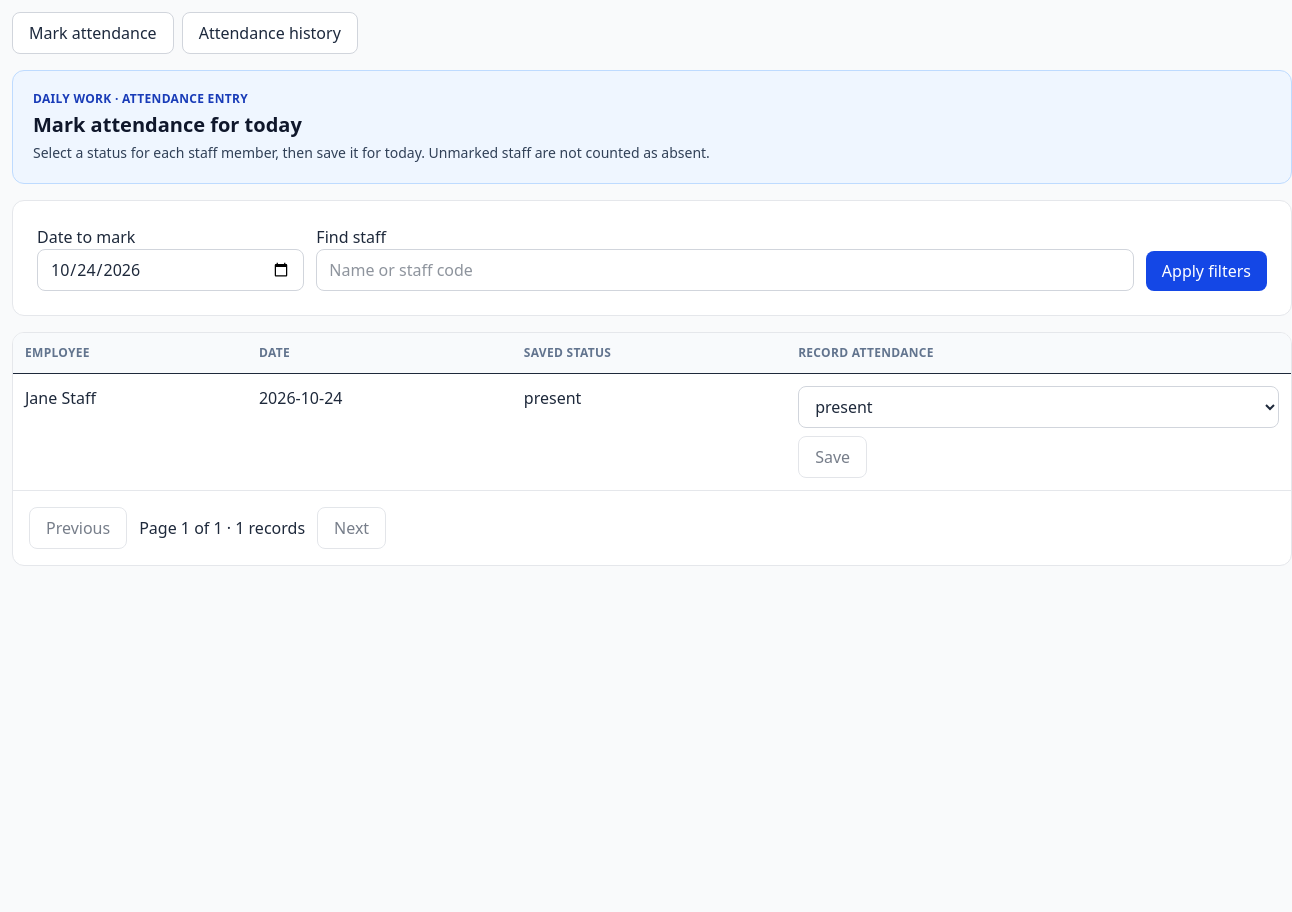
Test case: loads and corrects attendance for the chosen date
Type "2026-09-20" into the date field named "Attendance date".
click(171, 270); type("2026-09-20")  # box [37, 249, 304, 291]
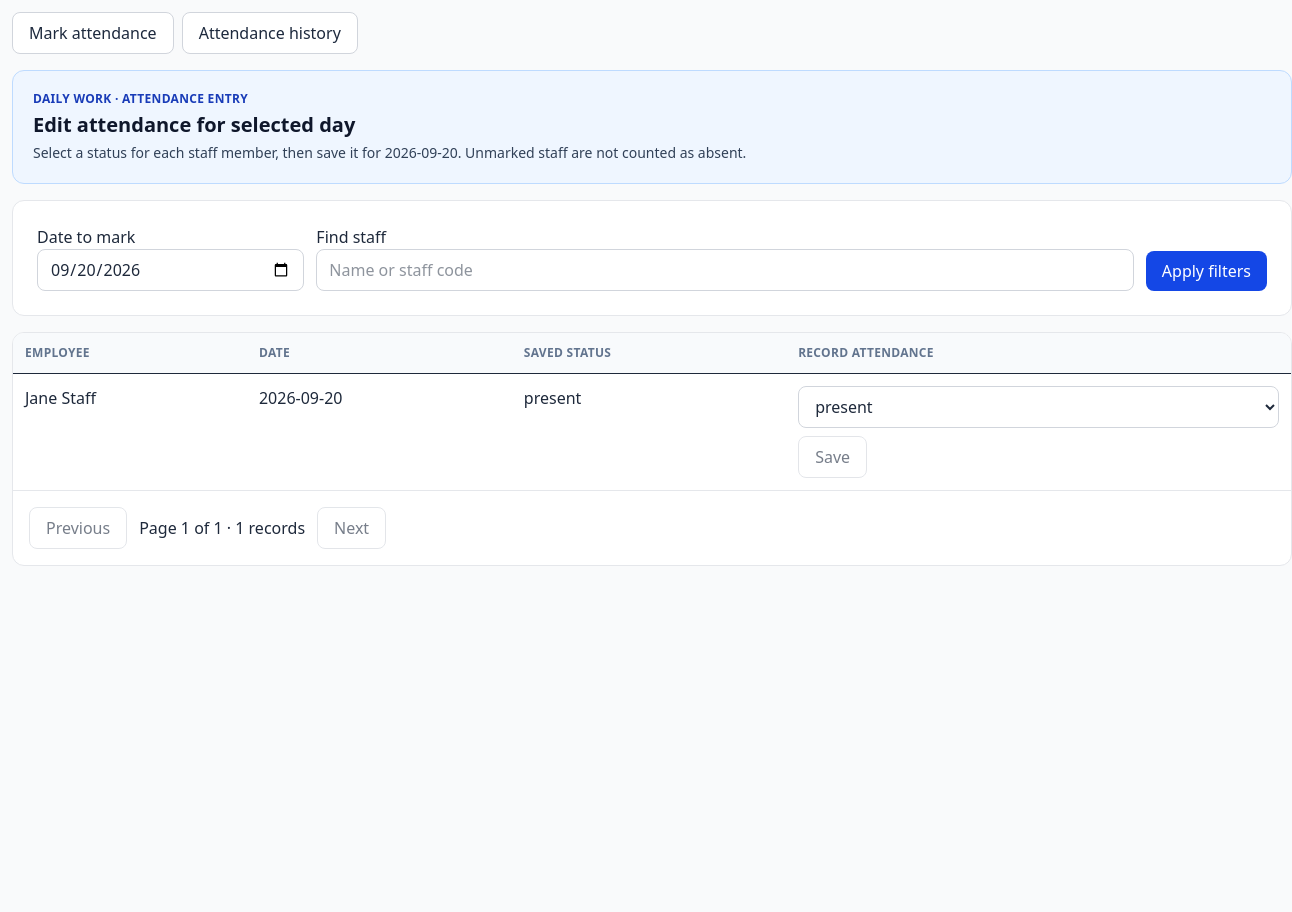
Select "late" in the dropdown named "Status for Jane Staff" at coordinates (1039, 407), box [798, 386, 1279, 428]
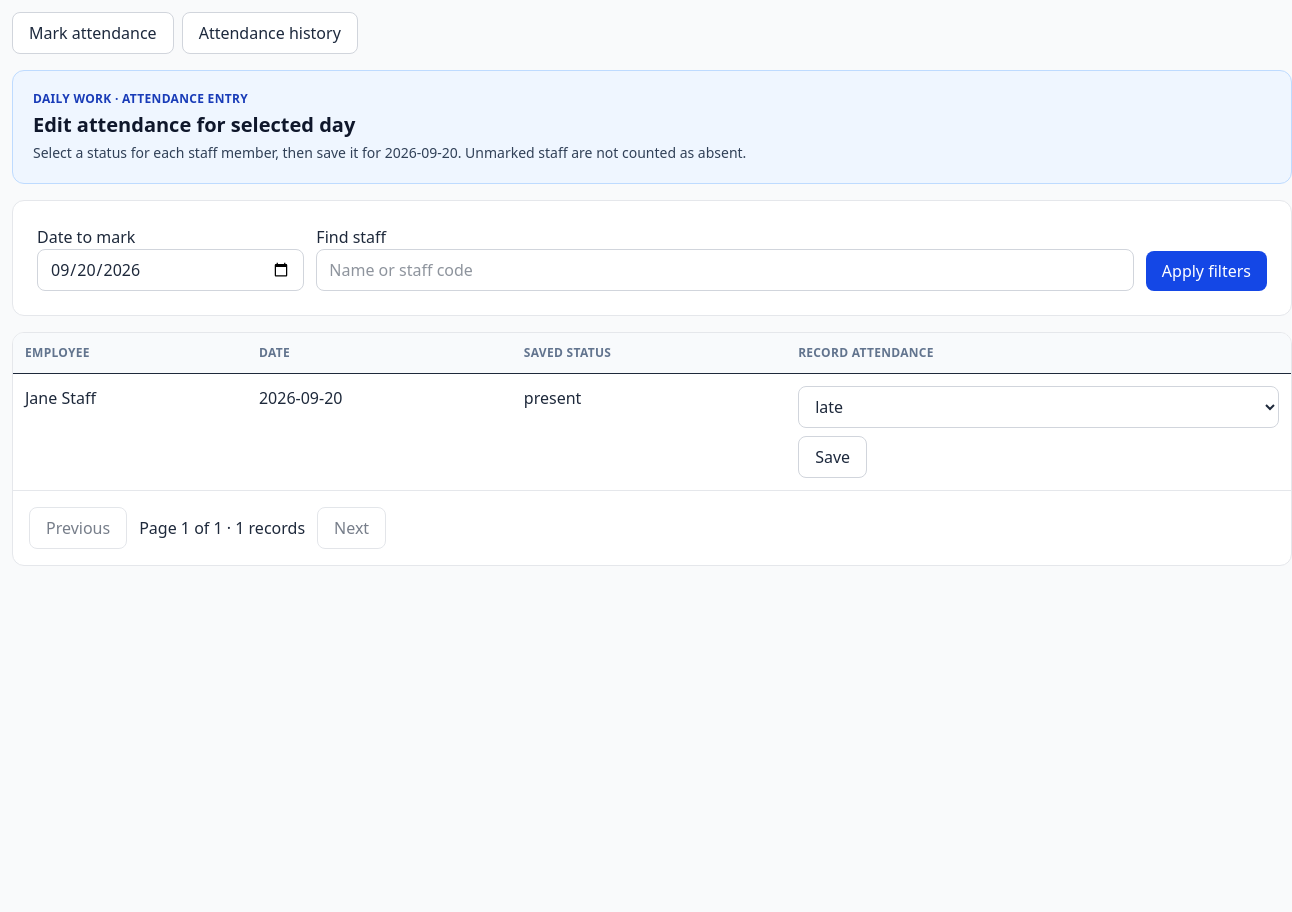
Click the button "Save".
click(833, 457)  # box [798, 436, 867, 478]
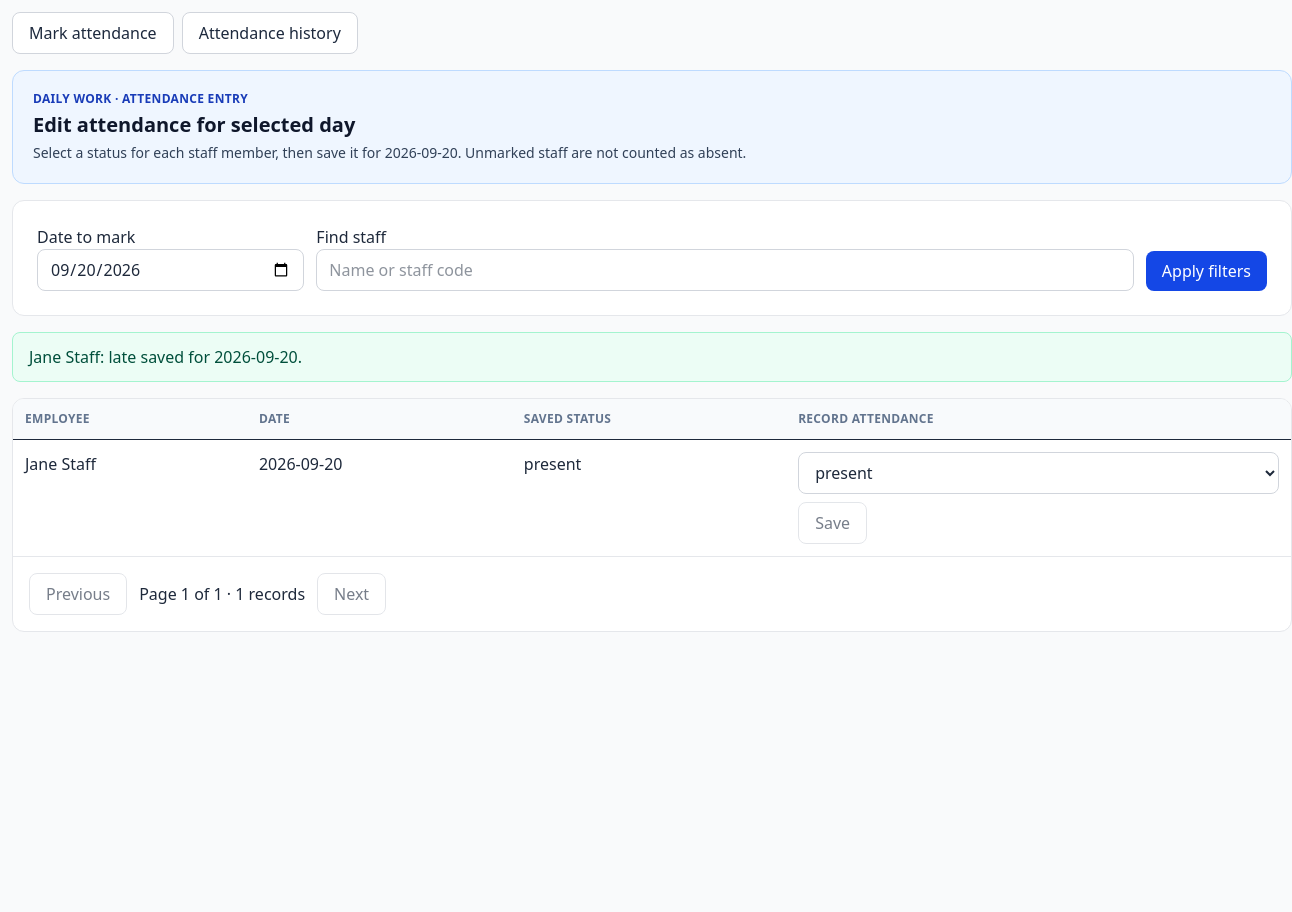
Check: the text "saved for 2026-09-20" is shown, box [29, 346, 302, 368]
